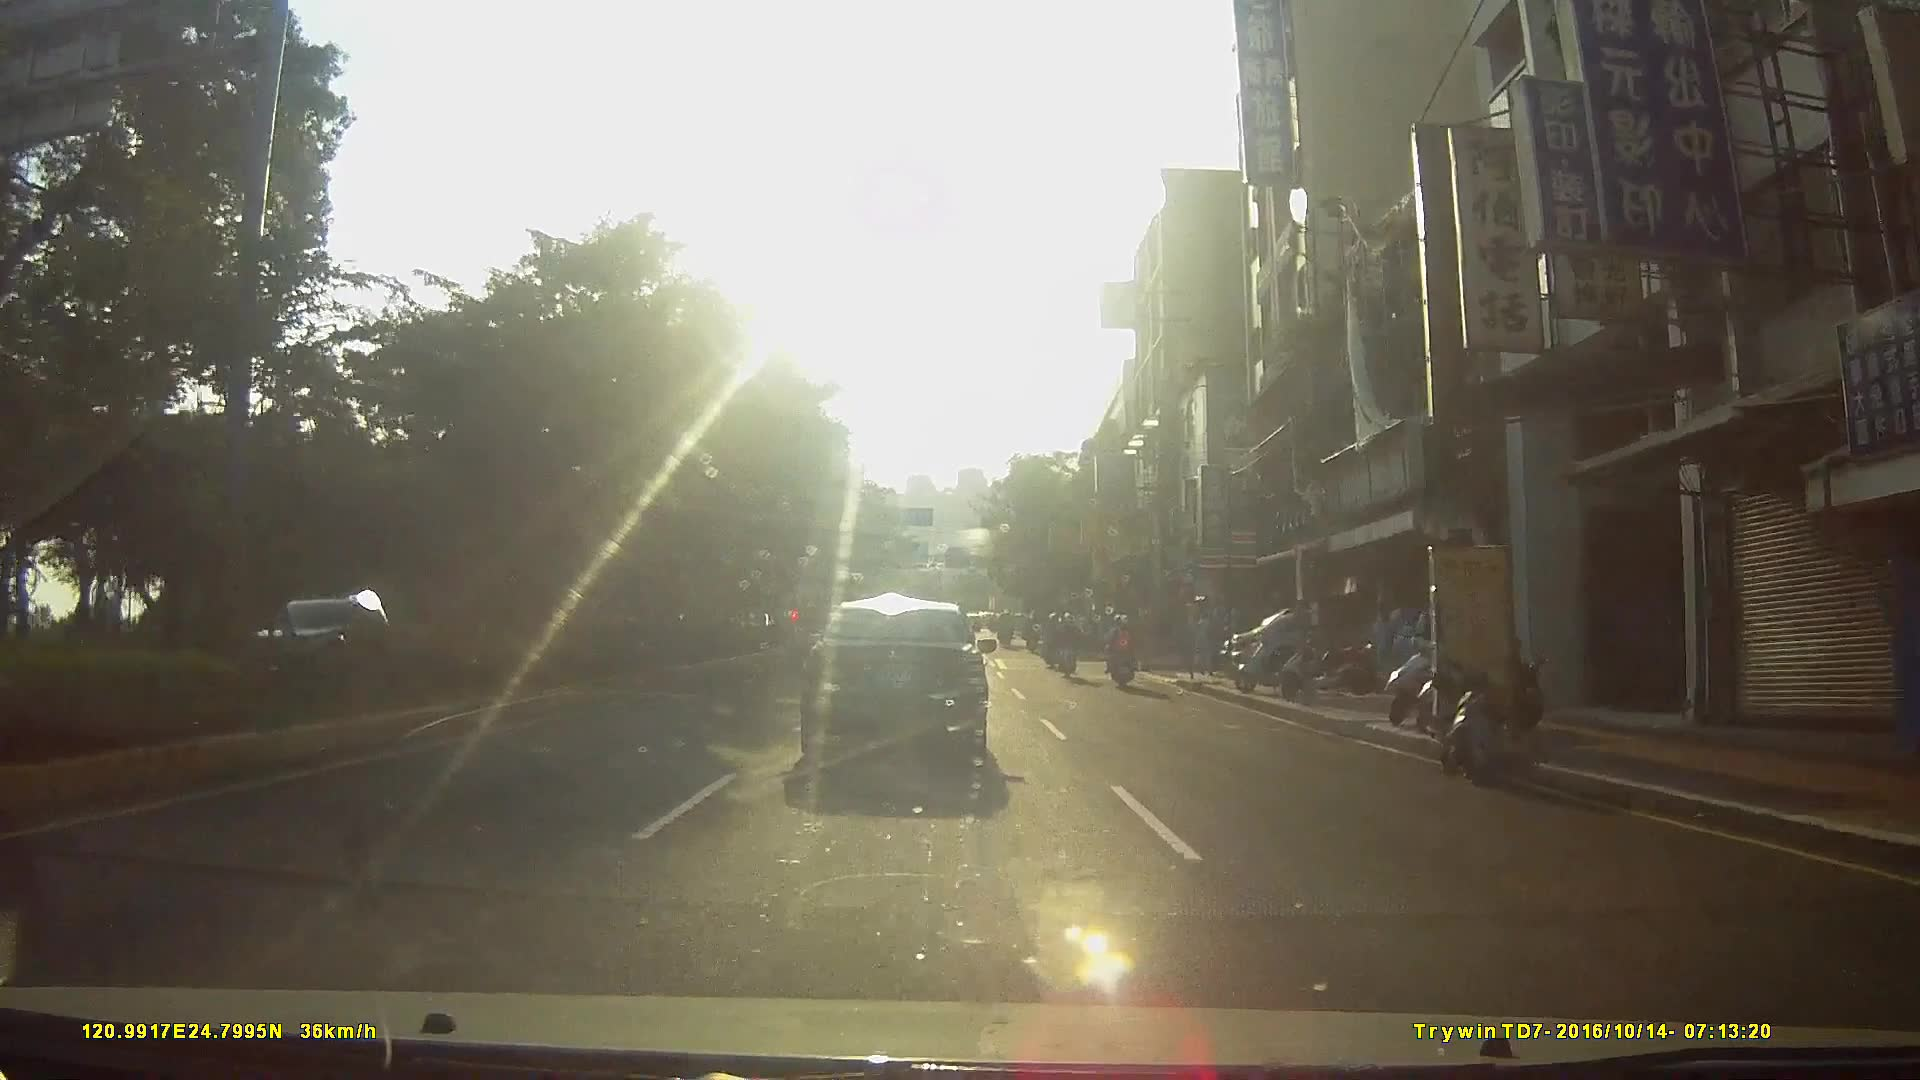rider: (1105, 612, 1138, 690), (1054, 612, 1081, 680), (1042, 612, 1065, 671)
vehicle: (798, 597, 1013, 787), (249, 582, 400, 686)
